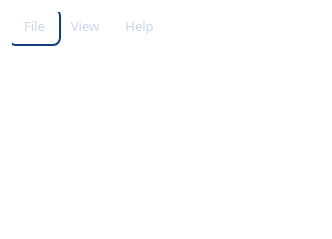
Scenario: the menu bar › does an entry, closes, and leaves the focus on the menu's name
The width and height of the screenshot is (332, 239).
Press ArrowDown in the menu item with class "menu-top" showing "File", box [12, 12, 57, 42]
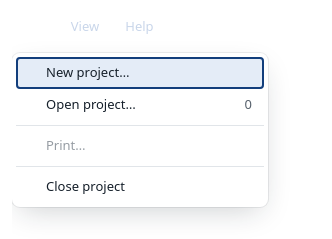
Click the menu item "New project…". click: coordinates (140, 73)
box: [16, 57, 264, 89]
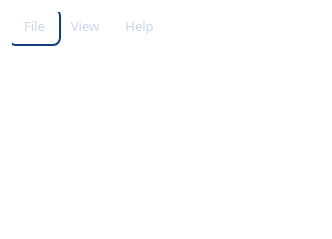
Expected: the menu is gone
